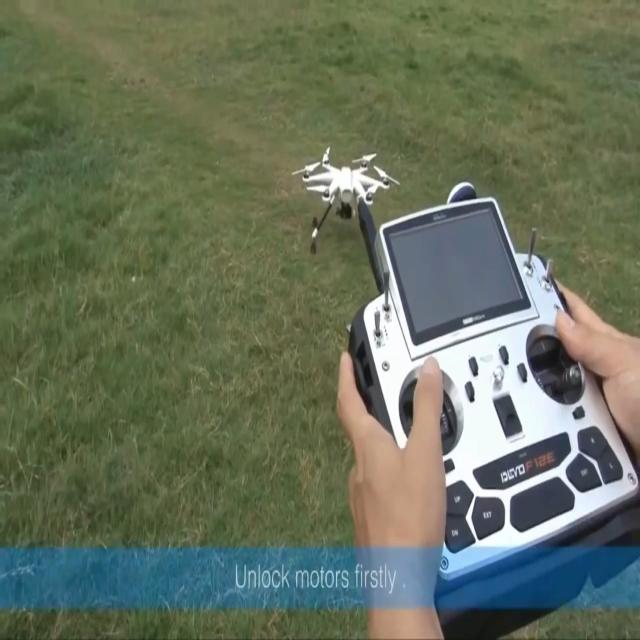drone: (291, 144, 400, 255)
